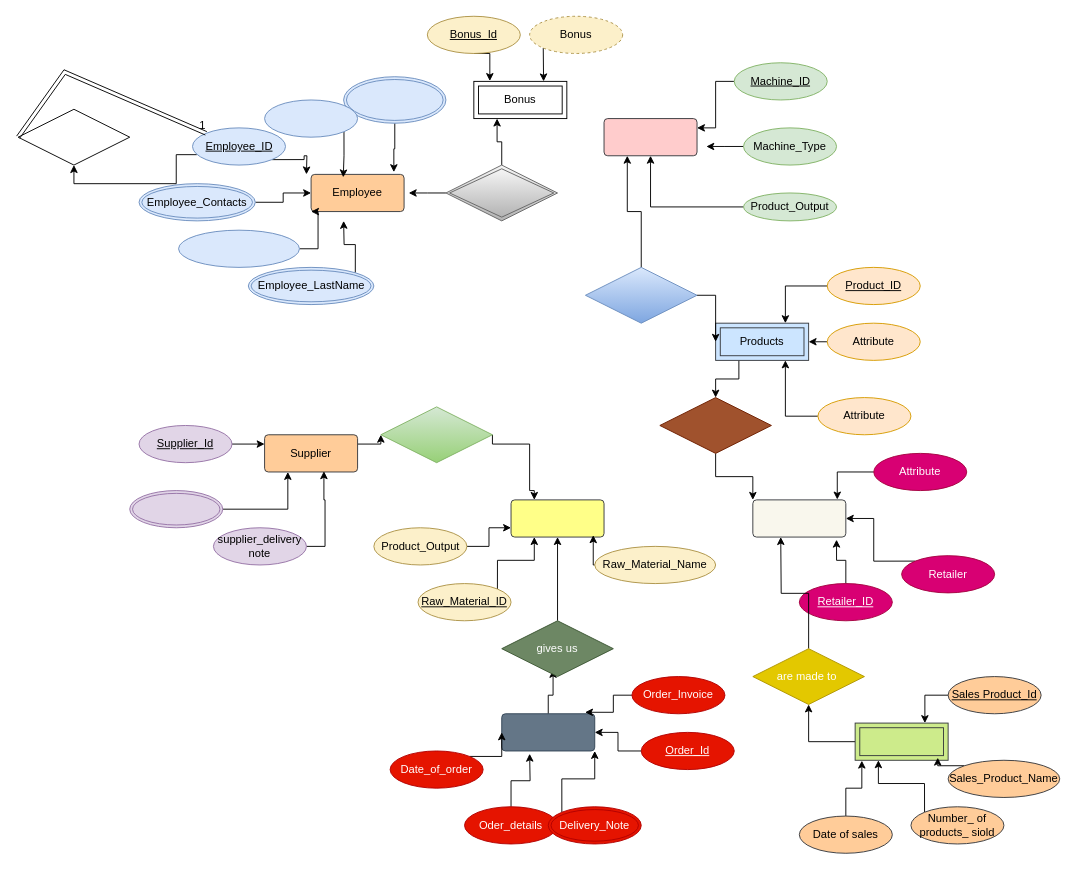
Image size: 1076x870. Some labels were removed from this diagram. The shapes that lost their labels are listed below. From the top down, each one's centre as x and y in pixels, then its label:
At point 311,118: "Employee_Salary".
At point 394,99: "Employee_FirstName".
At point 73,136: "Manages".
At point 650,137: "Machine".
At point 501,192: "RECEIVES".
At point 238,248: "Employee_Department".
At point 641,294: "ARE produced By".
At point 436,434: "SuPPLIES".
At point 715,425: "are delivered".
At point 176,509: "Supplier_Company Name".
At point 557,518: "Raw materials".
At point 799,518: "Retailers".
At point 548,732: "Oders".
At point 901,741: "Sales".
